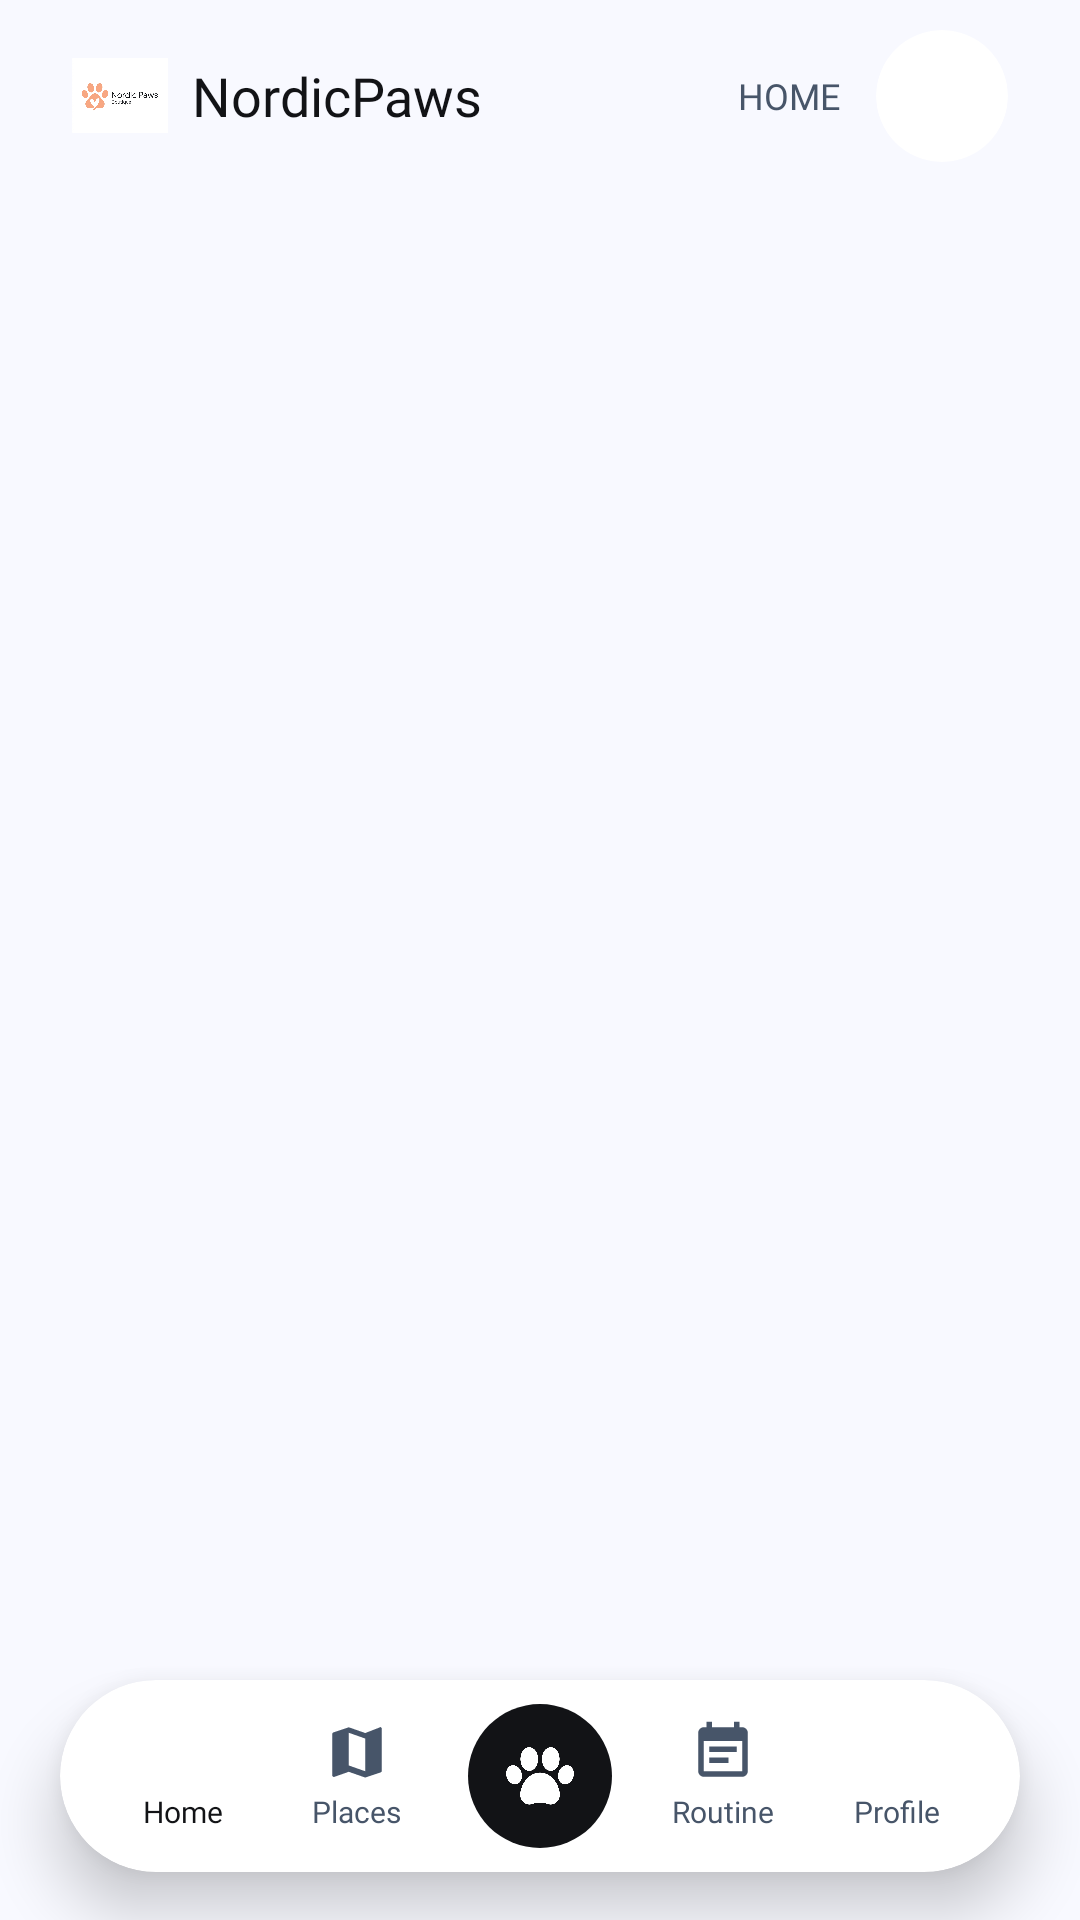

Icon bounding boxes for this 1080×1920 phone screenshot, format (x1, y1, x2, y2):
event note: (698, 1721, 748, 1777)
map: (332, 1727, 382, 1778)
paw: (506, 1747, 574, 1805)
